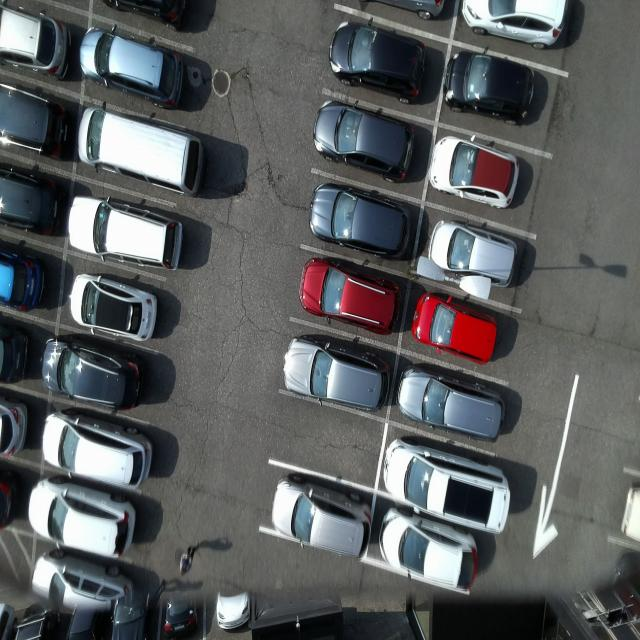car: (385, 439, 516, 535), (79, 106, 206, 197), (78, 24, 187, 114), (268, 472, 375, 560), (297, 254, 405, 341), (380, 505, 480, 596), (44, 409, 162, 486), (70, 196, 185, 275), (314, 100, 418, 184), (310, 180, 415, 263), (283, 334, 393, 413), (29, 477, 143, 553), (324, 18, 427, 101), (398, 366, 507, 444), (442, 45, 540, 127), (430, 134, 524, 212), (40, 340, 139, 413), (427, 213, 519, 291), (71, 269, 161, 346), (411, 292, 503, 367)
free_space: (269, 389, 390, 495)
